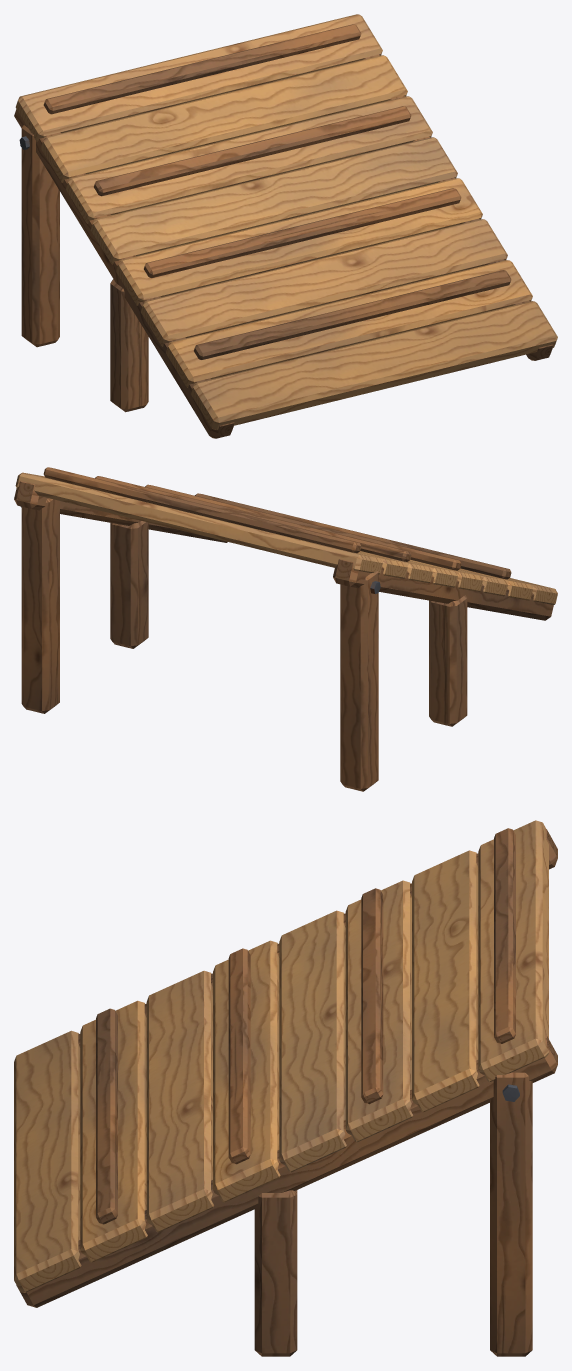
File: rampa.glb
3 renders of one model, top to bottom at view 1: azimuth 30°, elevation 25°; view 2: azimuth 150°, elevation 25°; view 3: azimuth 270°, elevation 25°, orthographic. The views are drawn at different scales.
Visible parts, largest first — view 1: rampa; view 2: rampa; view 3: rampa.
Boxes of the visible parts, left/top/right/bottom form: rampa: left=14, top=14, right=557, bottom=438; rampa: left=14, top=467, right=557, bottom=791; rampa: left=14, top=820, right=557, bottom=1356.
Size of the model in its own units: 3.07 by 2 by 3.08.
1 material, 1 textured.
